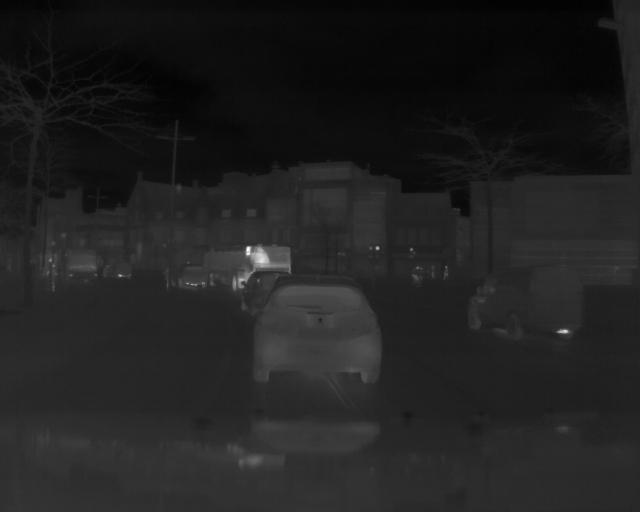car: (252, 276, 384, 385), (466, 267, 587, 343), (64, 247, 100, 287), (177, 264, 207, 292), (102, 258, 134, 282)
person: (444, 262, 449, 283)
